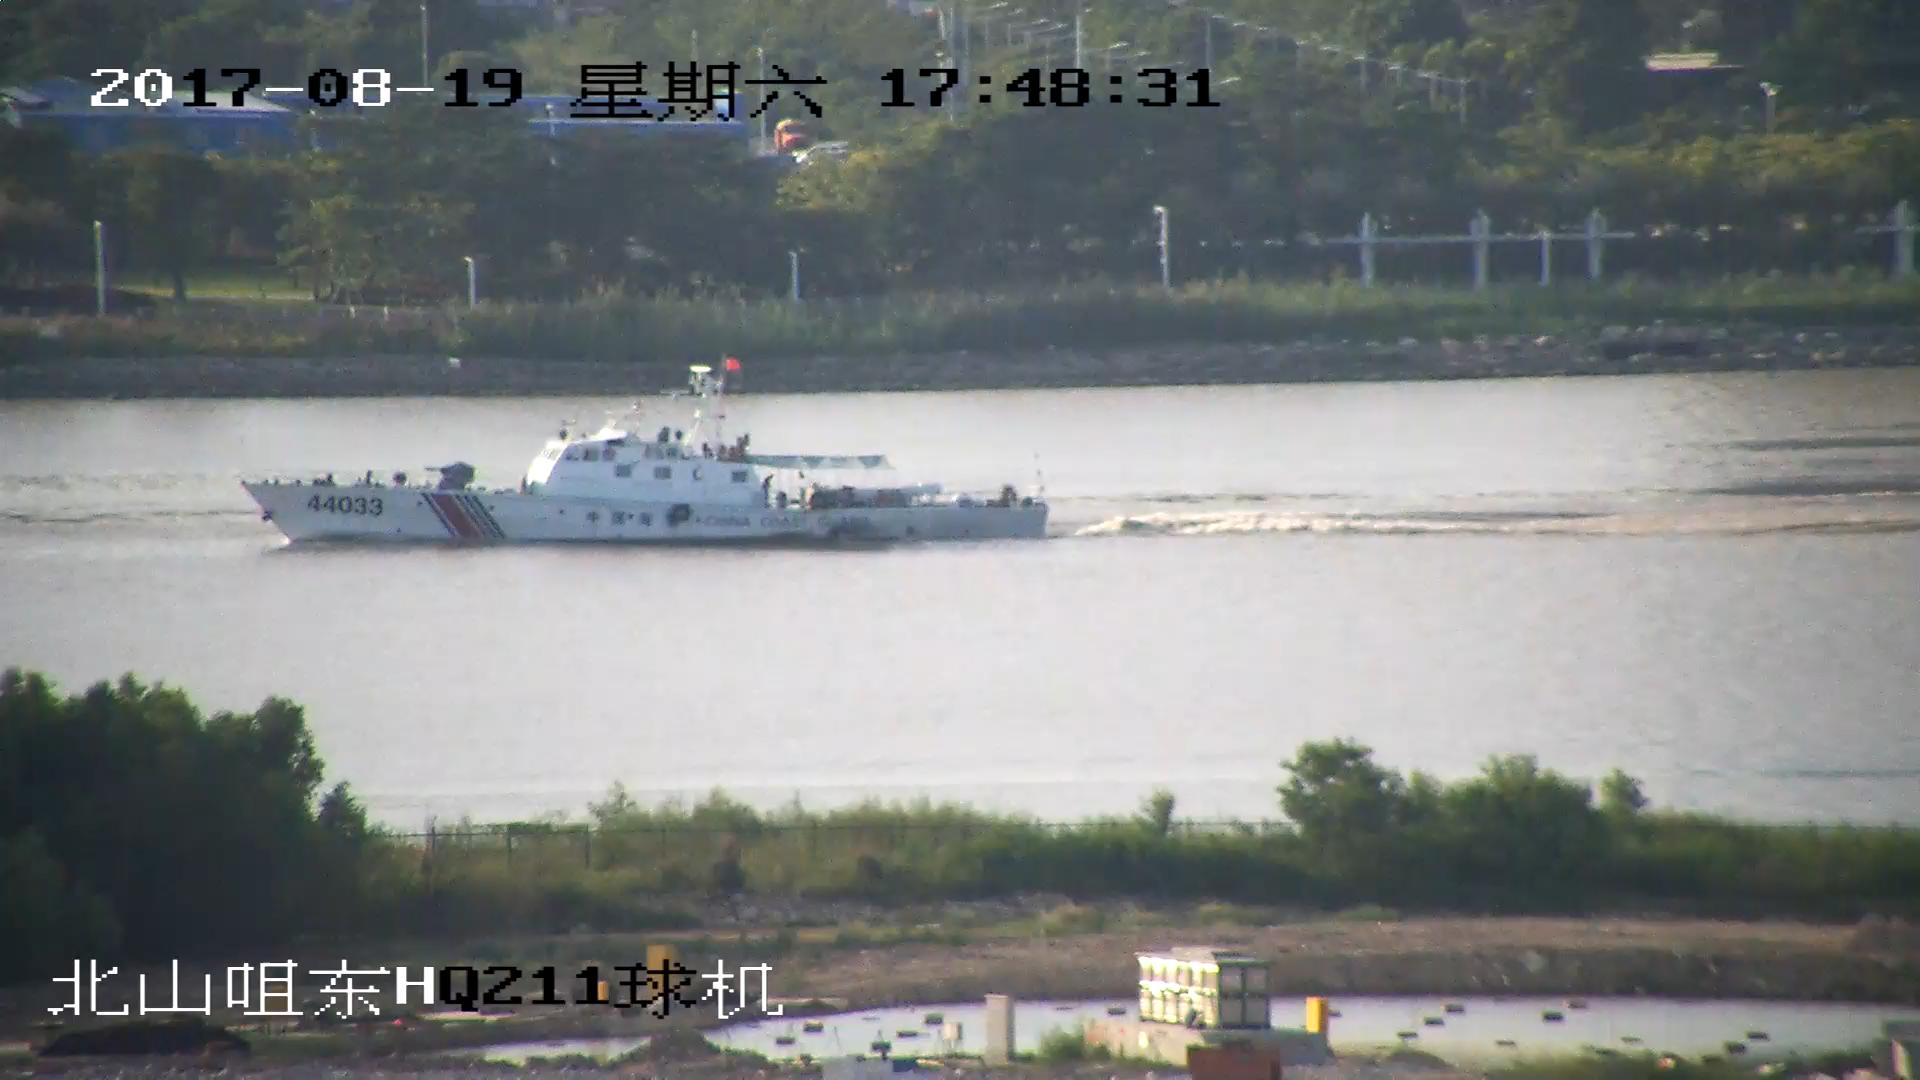passenger ship: (252, 358, 1044, 548)
